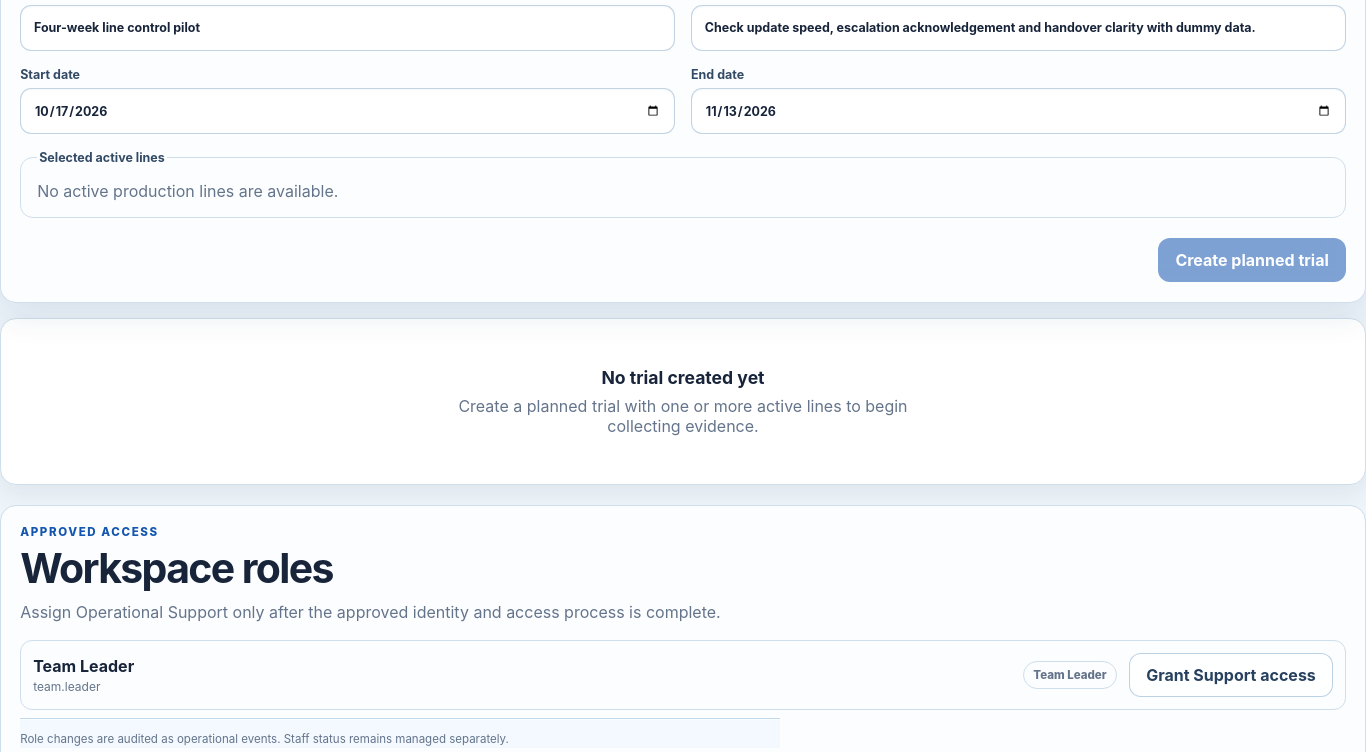
pilot administration › renders monitoring evidence and changes an approved workspace role
(page scrolled)
Click the button "Grant Support access" at (1231, 675), box x1=1129 y1=653 x2=1333 y2=697
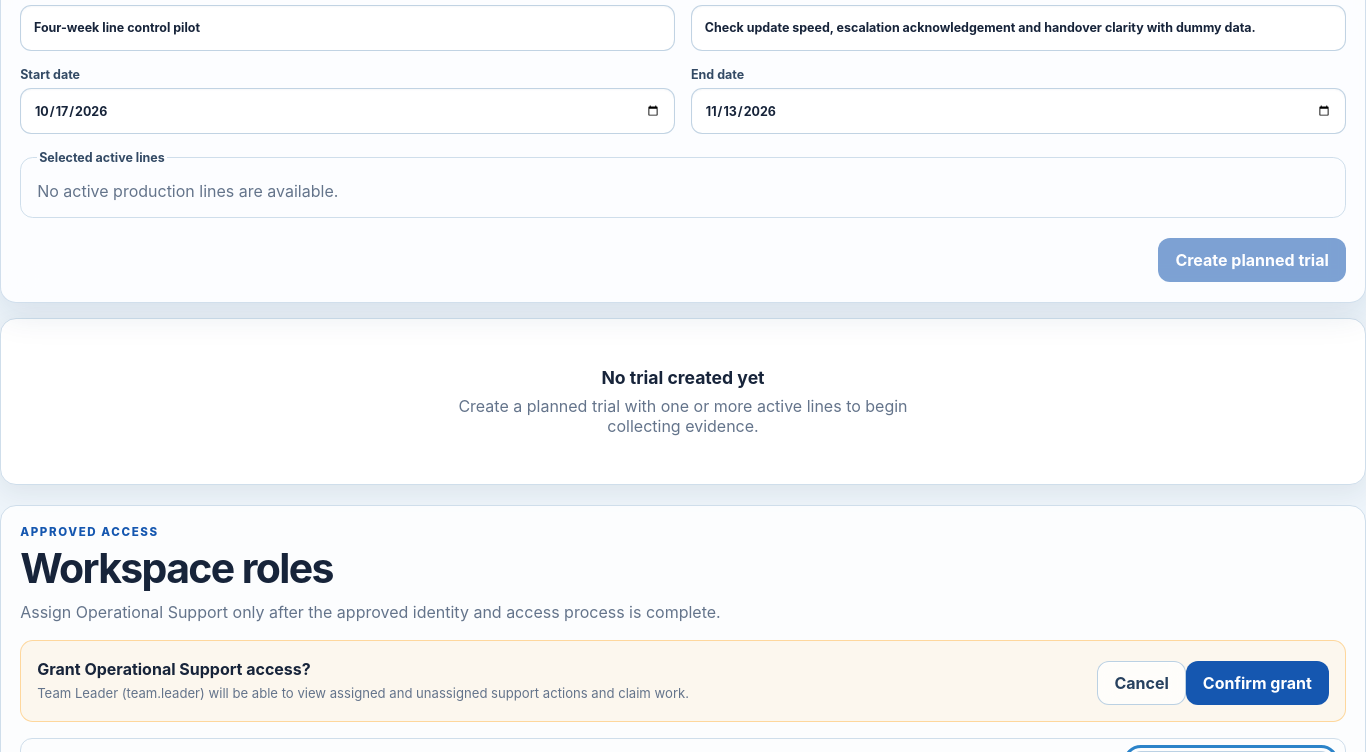
Check: the dialog "Grant Operational Support access?" shows "view assigned and unassigned support actions", box x1=229 y1=685 x2=689 y2=701
Click the button "Confirm grant" at (1257, 683), box x1=1186 y1=661 x2=1329 y2=705
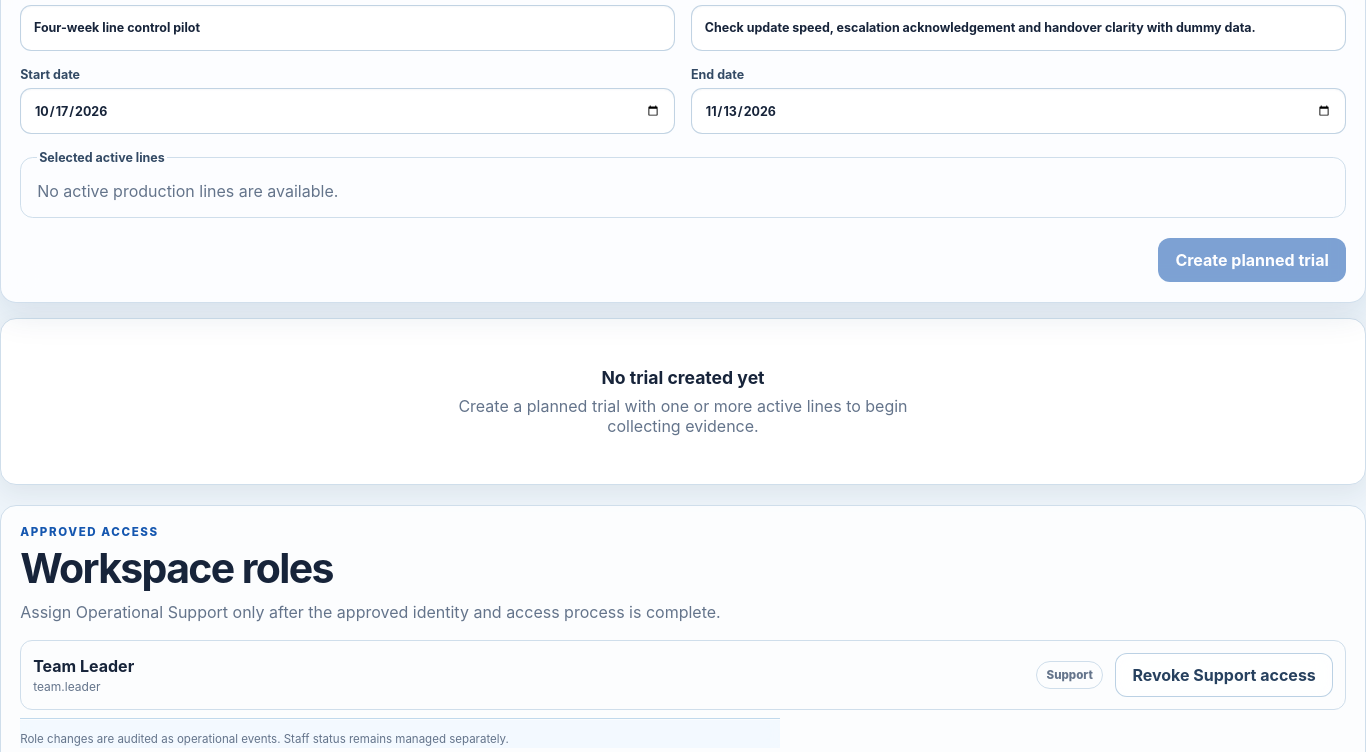
Check: the button "Revoke Support access" is shown, box x1=1115 y1=653 x2=1333 y2=697
